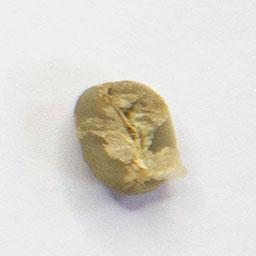peaberry: (70, 75, 191, 200)
